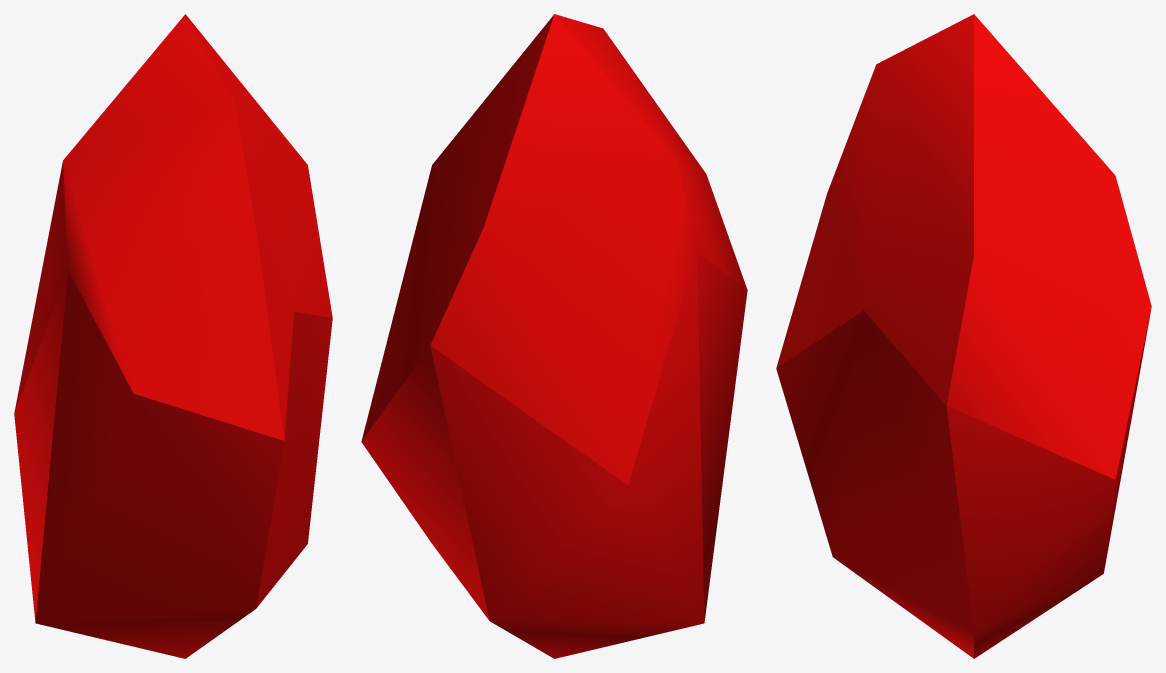
File: pedraSangue.fbx
3 renders of one model, left to right at view 1: azimuth 30°, elevation 25°; view 2: azimuth 150°, elevation 25°; view 3: azimuth 270°, elevation 25°, orthographic.
Visible parts, largest first — view 1: pasted__pasted__pPlatonic2; view 2: pasted__pasted__pPlatonic2; view 3: pasted__pasted__pPlatonic2.
Boxes of the visible parts, x1,y1,x2,y2 form: pasted__pasted__pPlatonic2: [14, 14, 332, 658]; pasted__pasted__pPlatonic2: [361, 14, 747, 658]; pasted__pasted__pPlatonic2: [776, 14, 1151, 658].
Bounding box in the file's own units: 3.41 × 7.41 × 3.91.
